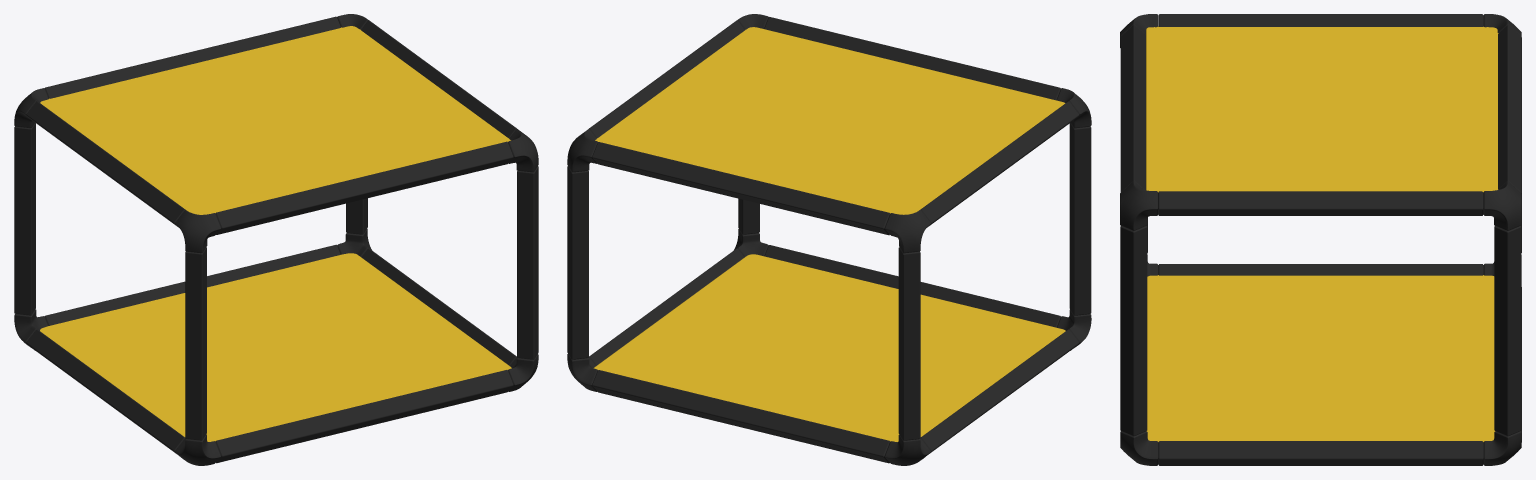
The picture shows the model from 3 angles, left to right: view 1: azimuth 30°, elevation 25°; view 2: azimuth 150°, elevation 25°; view 3: azimuth 270°, elevation 25°; orthographic projection. The views are drawn at different scales.
Parts seen in each view (by area): view 1: 374x329x229; view 2: 374x329x229; view 3: 374x329x229.
Boxes of the visible parts, <box> form: 374x329x229: <box>14,14,538,465</box>; 374x329x229: <box>567,14,1091,465</box>; 374x329x229: <box>1120,14,1521,465</box>.
Size of the model in its own units: 0.4517 by 0.3067 by 0.4063.
